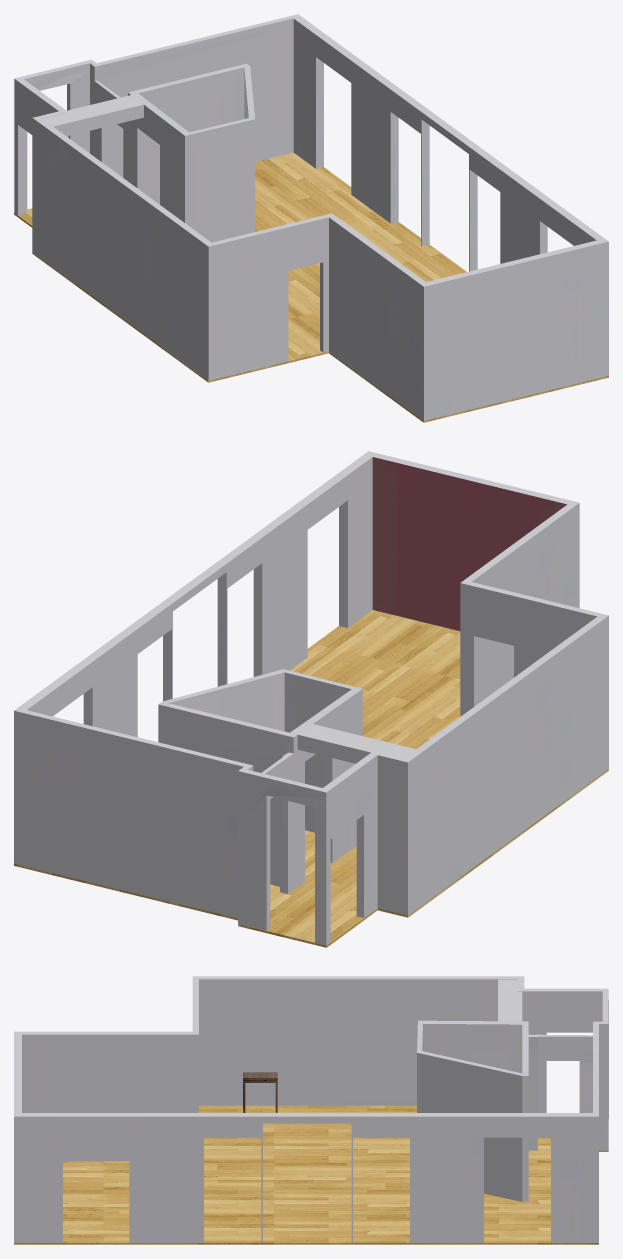
The model's file is irom_bench.glb.
3 views of the same model, one above another, from view 1: azimuth 30°, elevation 25°; view 2: azimuth 150°, elevation 25°; view 3: azimuth 270°, elevation 25° (orthographic). The views are drawn at different scales.
Visible parts, largest first — view 1: frl_apartment_wall, frl_apartment_floor; view 2: frl_apartment_wall, frl_apartment_floor; view 3: frl_apartment_wall, frl_apartment_floor, frl_apartment_table_01.
Boxes of the visible parts, x1,y1,x2,y2 form: frl_apartment_wall: (14, 14, 608, 420); frl_apartment_floor: (14, 152, 608, 422); frl_apartment_wall: (14, 451, 608, 945); frl_apartment_floor: (14, 610, 608, 947); frl_apartment_wall: (14, 976, 608, 1242); frl_apartment_floor: (14, 1105, 608, 1244); frl_apartment_table_01: (243, 1072, 277, 1112).
Bounding box in the file's own units: 7.26 × 3.09 × 13.
Materials: 3 (3 with a texture image).
